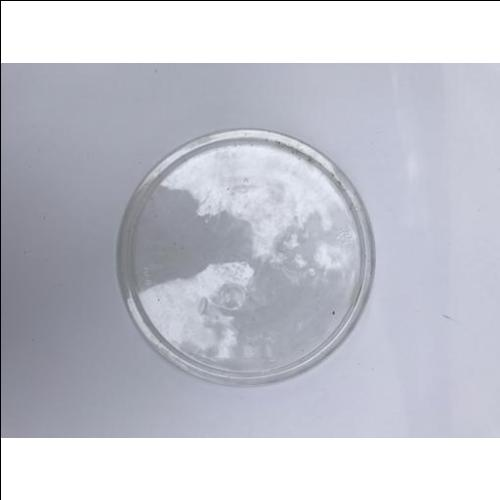plastic: (117, 128, 375, 387)
